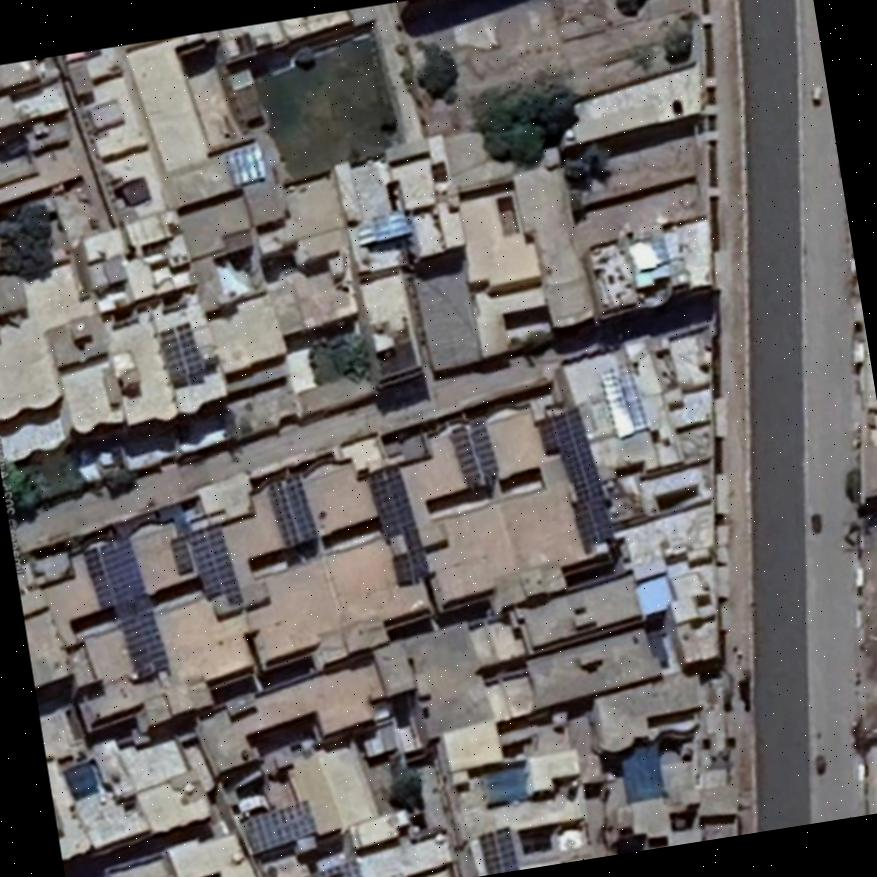Solarpanel: (82, 534, 167, 682), (540, 409, 616, 545), (366, 465, 429, 585), (186, 522, 239, 614), (248, 797, 316, 854), (264, 475, 317, 546), (453, 419, 500, 477), (161, 322, 204, 382), (477, 827, 517, 874), (227, 144, 266, 188), (309, 862, 363, 877)
